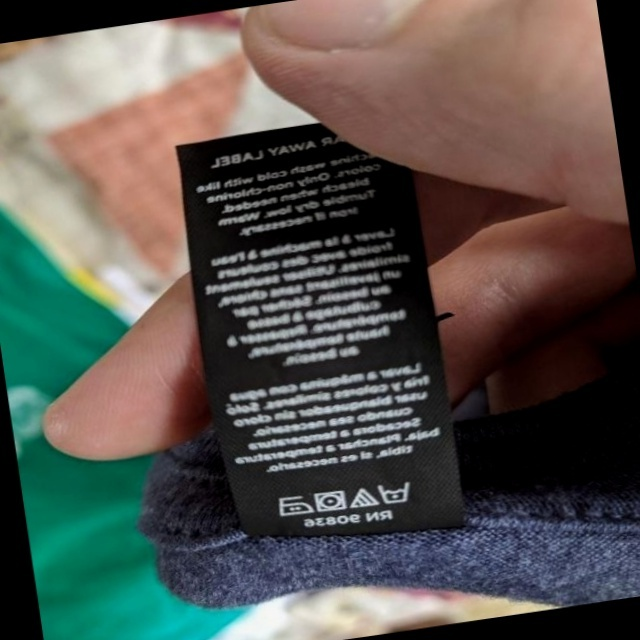30C: (377, 477, 412, 507)
iron_medium: (272, 492, 313, 523)
non_chlorine_bleach: (346, 486, 378, 512)
tumble_dry_low: (309, 488, 347, 518)
